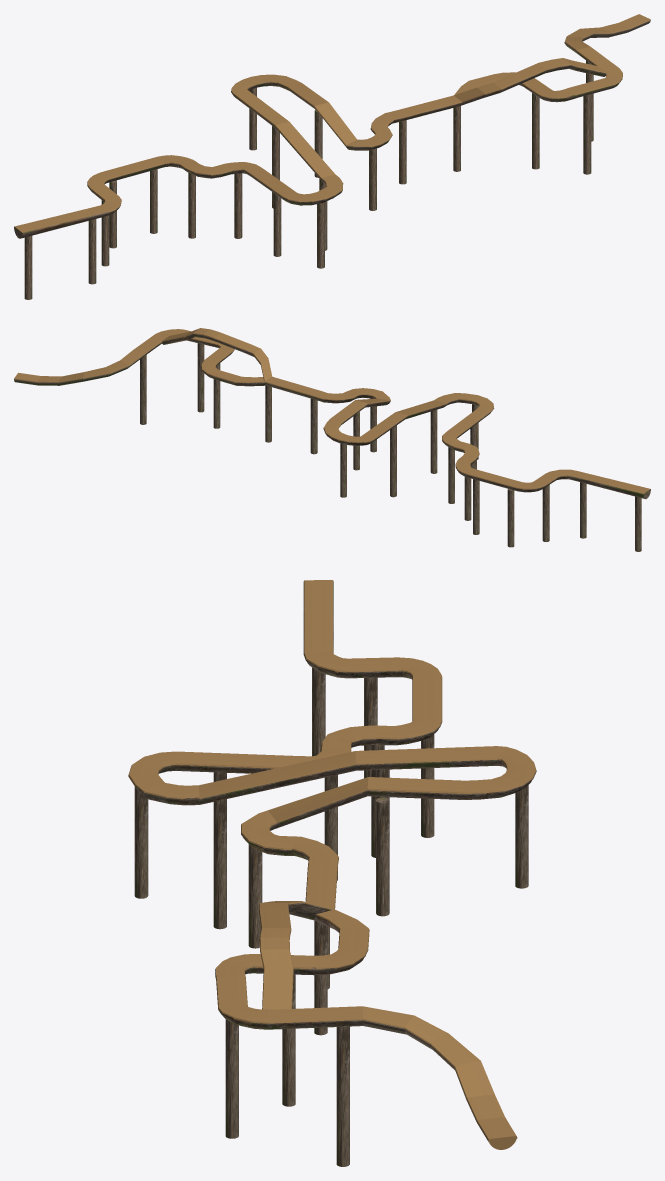
Rendered from BaumstammBrücke.fbx.
3 renders of one model, top to bottom at view 1: azimuth 30°, elevation 25°; view 2: azimuth 150°, elevation 25°; view 3: azimuth 270°, elevation 25°, orthographic. The views are drawn at different scales.
Parts seen in each view (by area): view 1: Cylinder.028; view 2: Cylinder.028; view 3: Cylinder.028.
Boxes of the visible parts, x1,y1,x2,y2 form: Cylinder.028: (14,14,650,299); Cylinder.028: (14,328,650,551); Cylinder.028: (128,580,536,1166).
Size of the model in its own units: 89.94 by 15.05 by 27.09.
